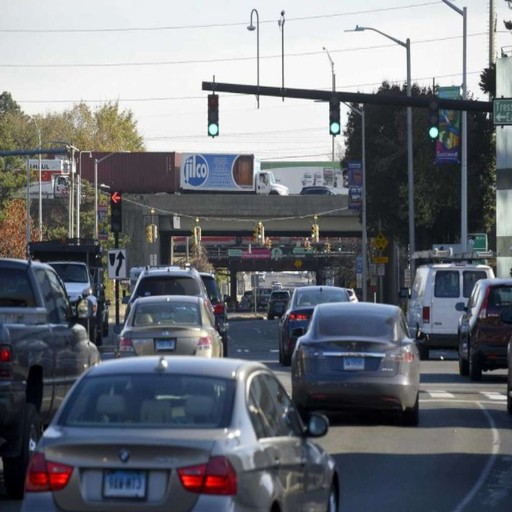car: (22, 351, 345, 512), (285, 299, 427, 425), (113, 293, 229, 377), (275, 284, 365, 362), (453, 274, 512, 381)
truck: (1, 259, 104, 450), (173, 145, 288, 198)
